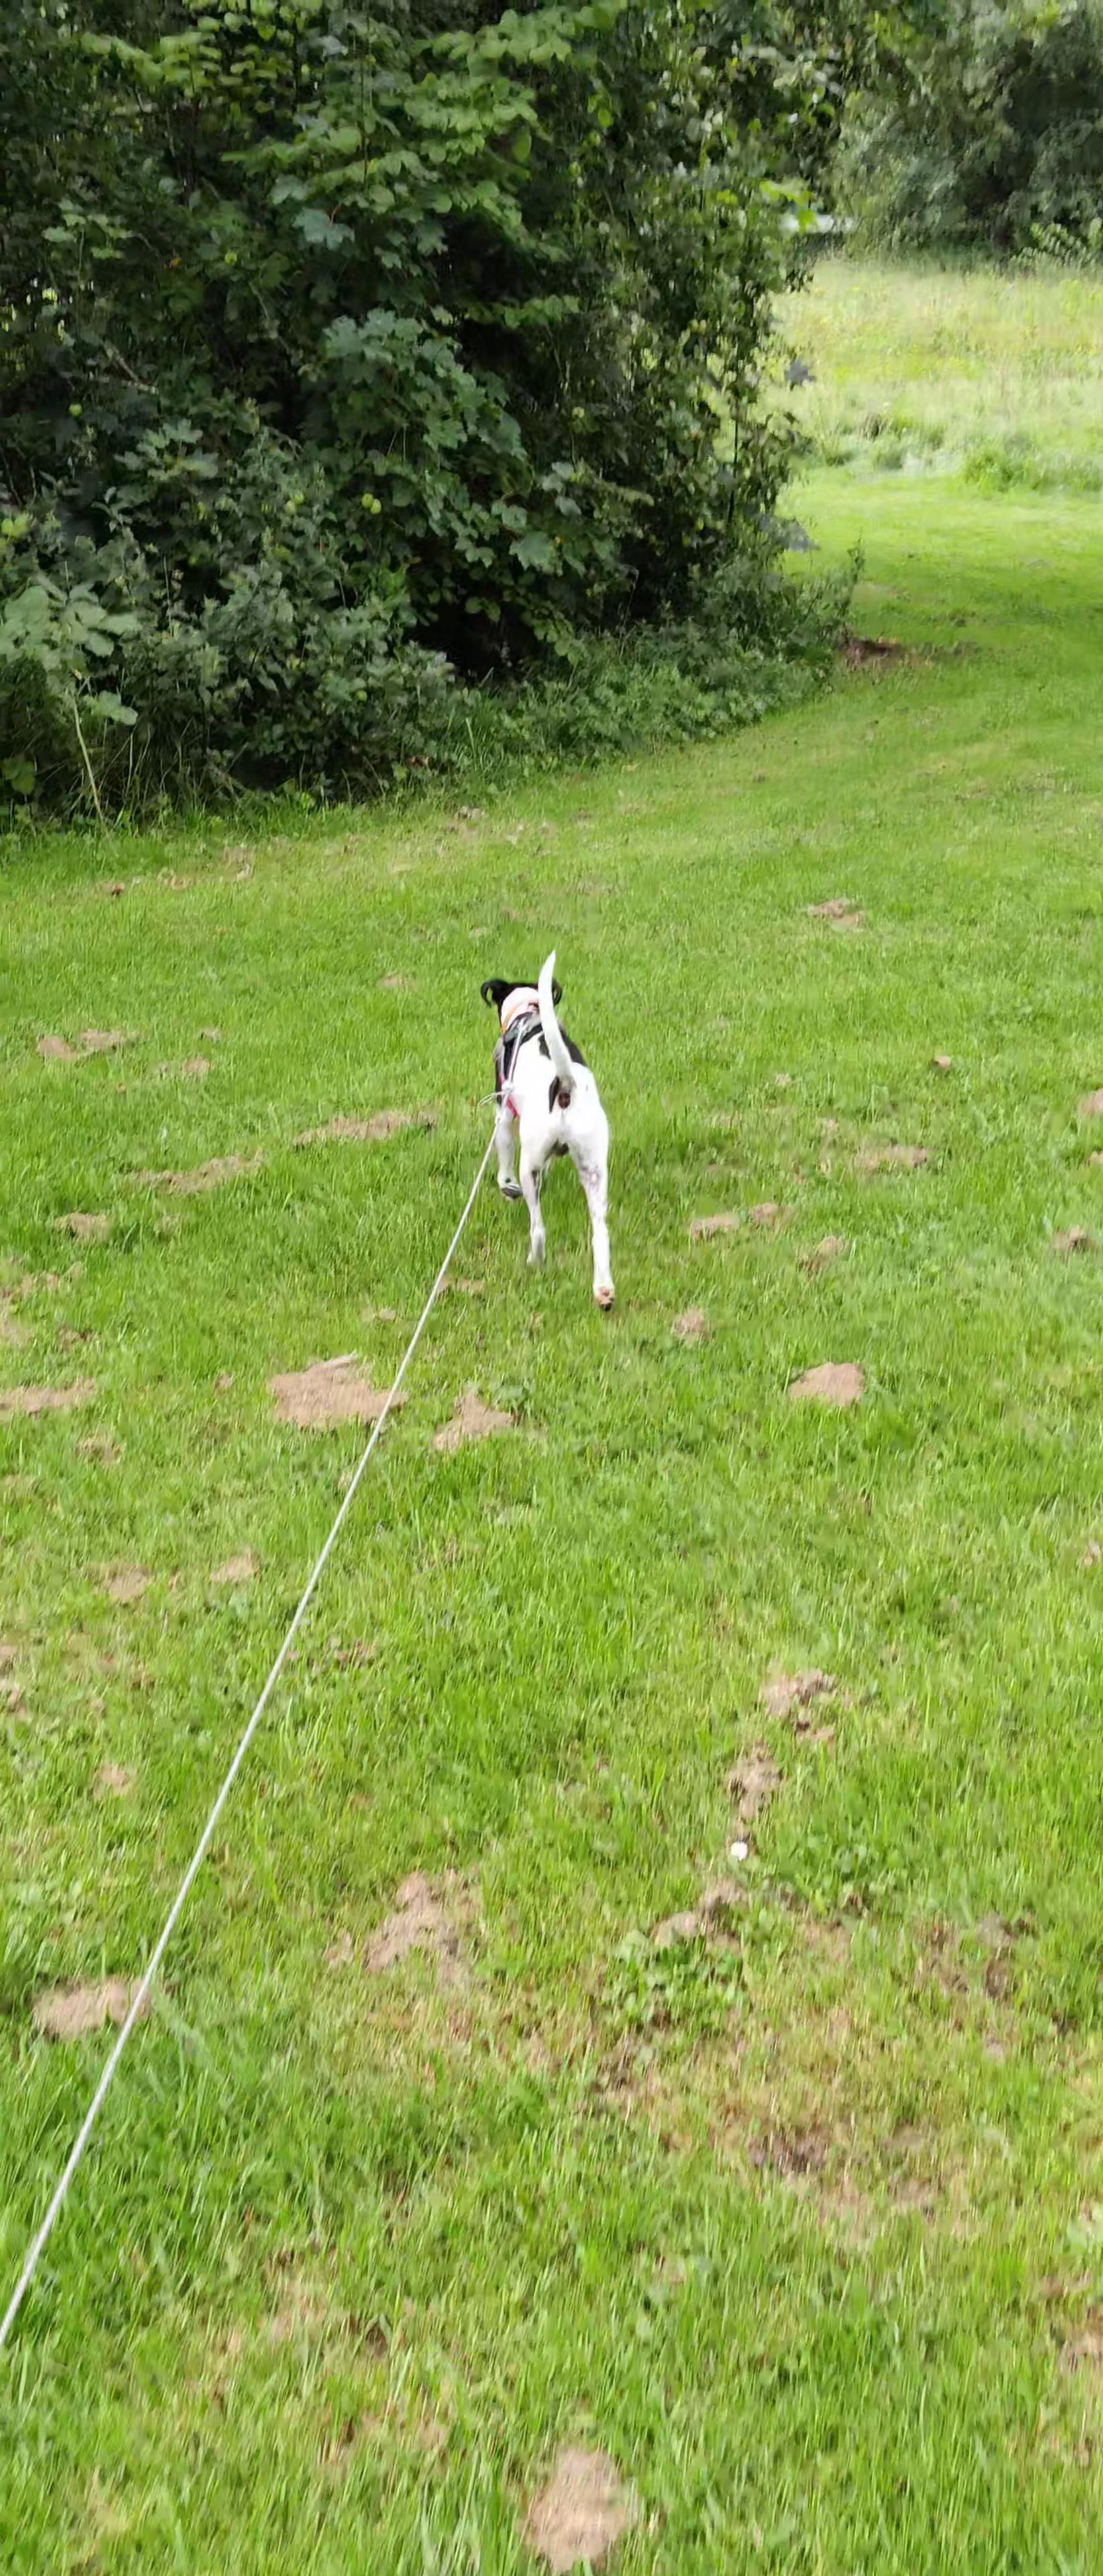Dog: (437, 927, 635, 1326)
